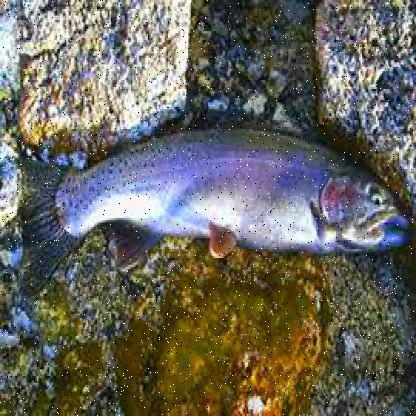fish: (11, 119, 408, 295)
